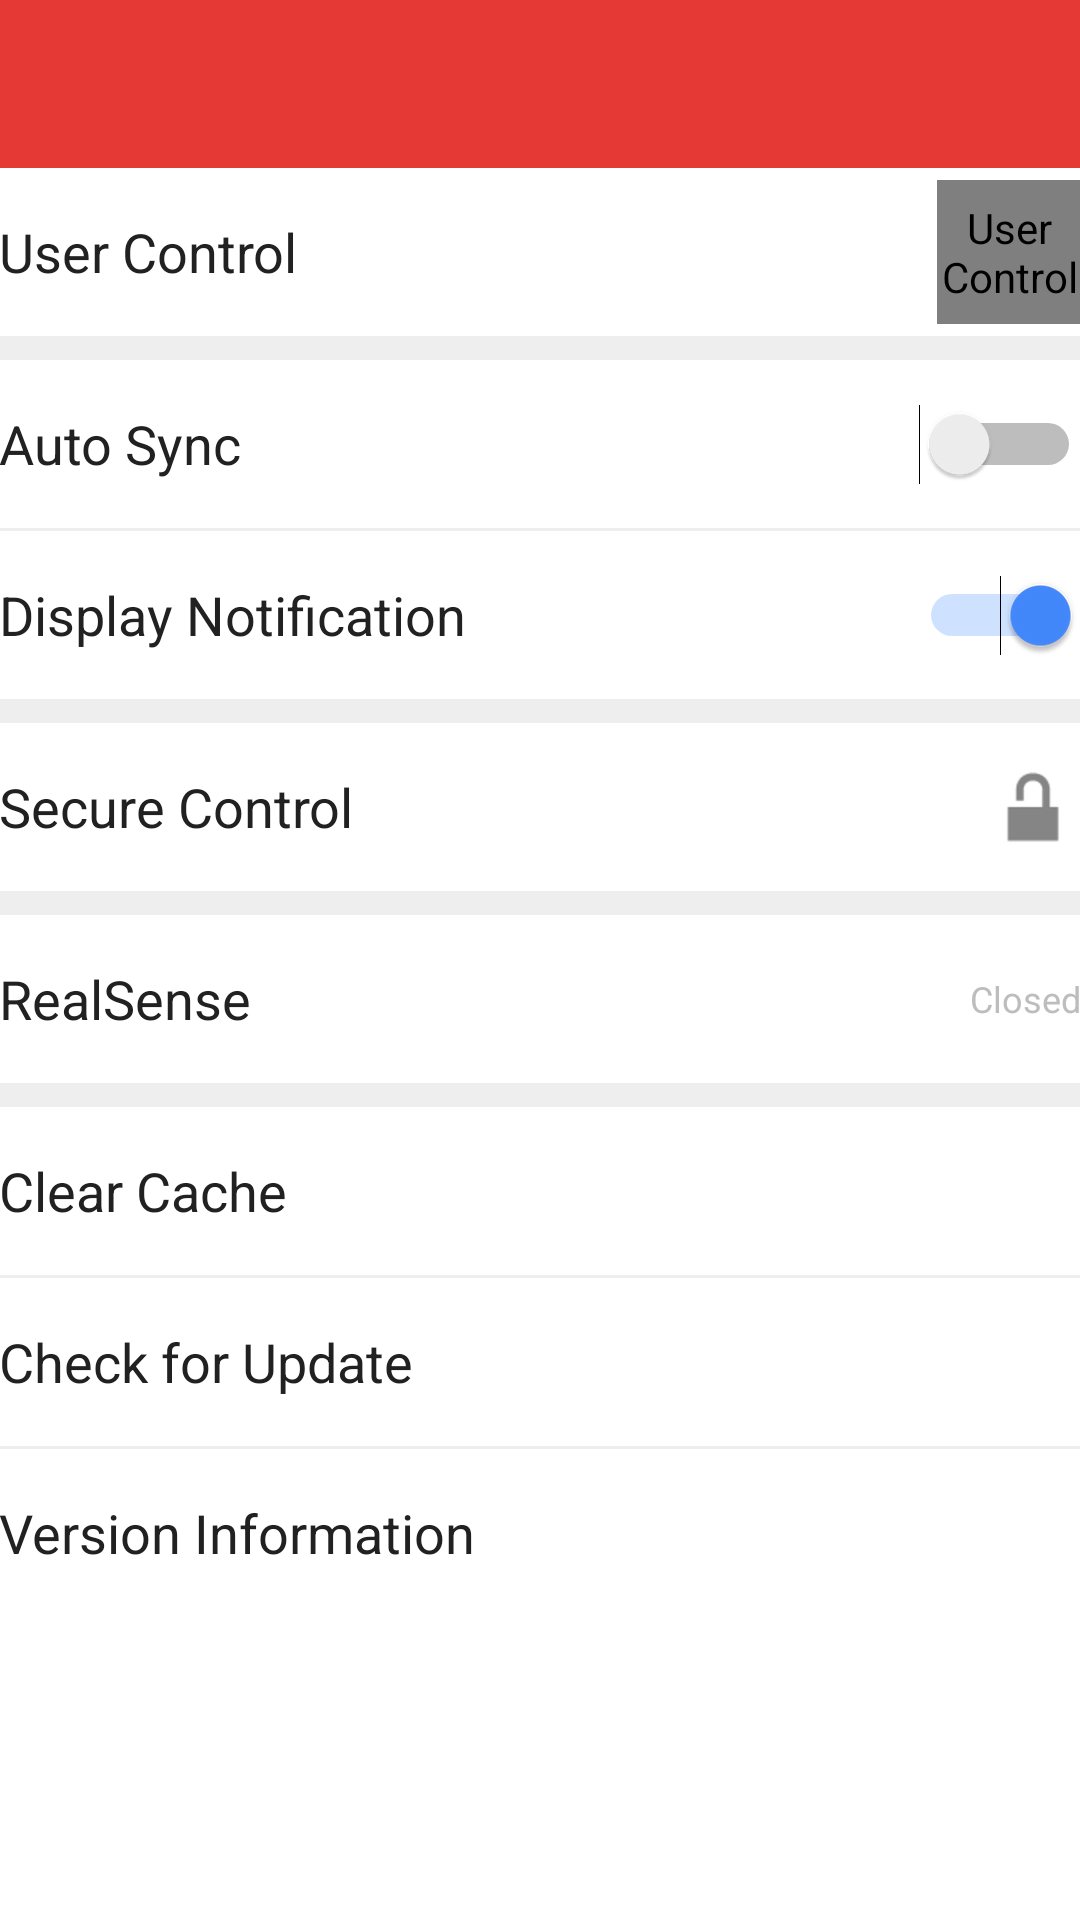

Locate icon controls on the screen. Image size 1080px×1920px, boxes as (x1, y1, x2, y2).
Secure Control: (1007, 772, 1059, 842)
